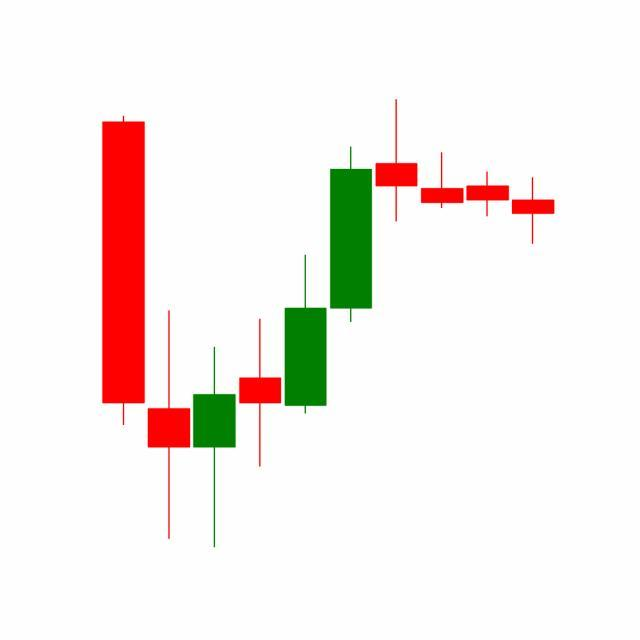Hikkake Pattern: (283, 100, 512, 420)
